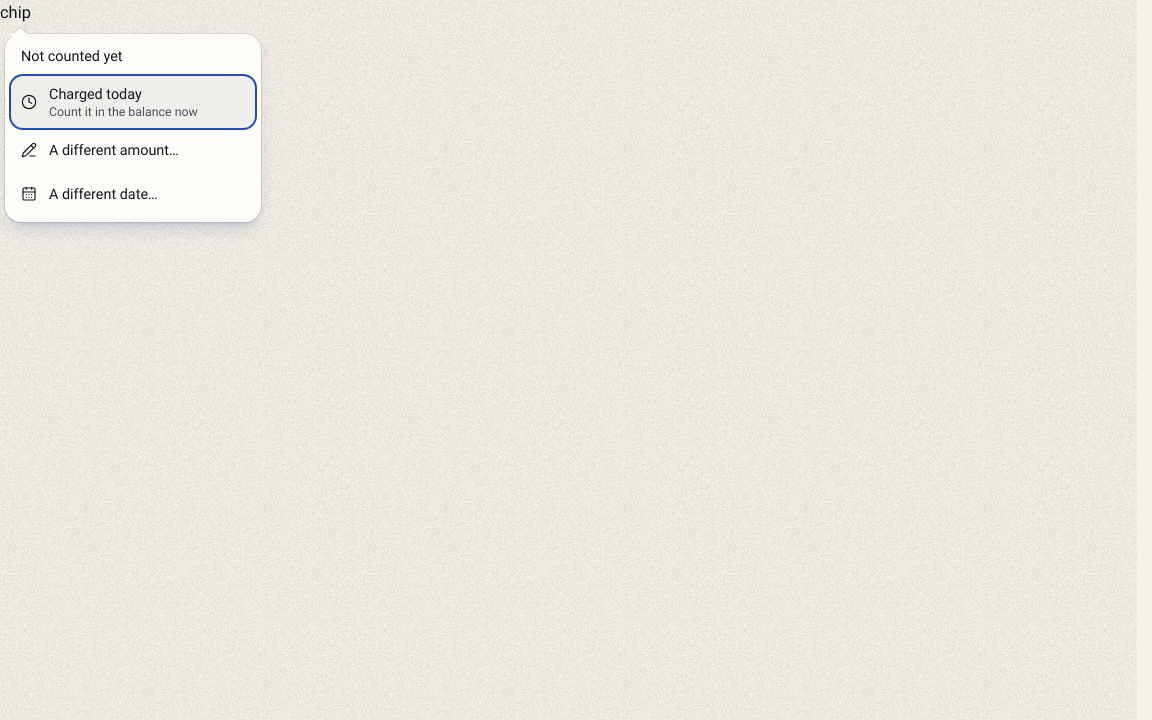
Test case: ProjectedPopout › goes back from the calendar to the three choices
Click the button "A different date…". click: click(133, 194)
box: [11,172,255,216]
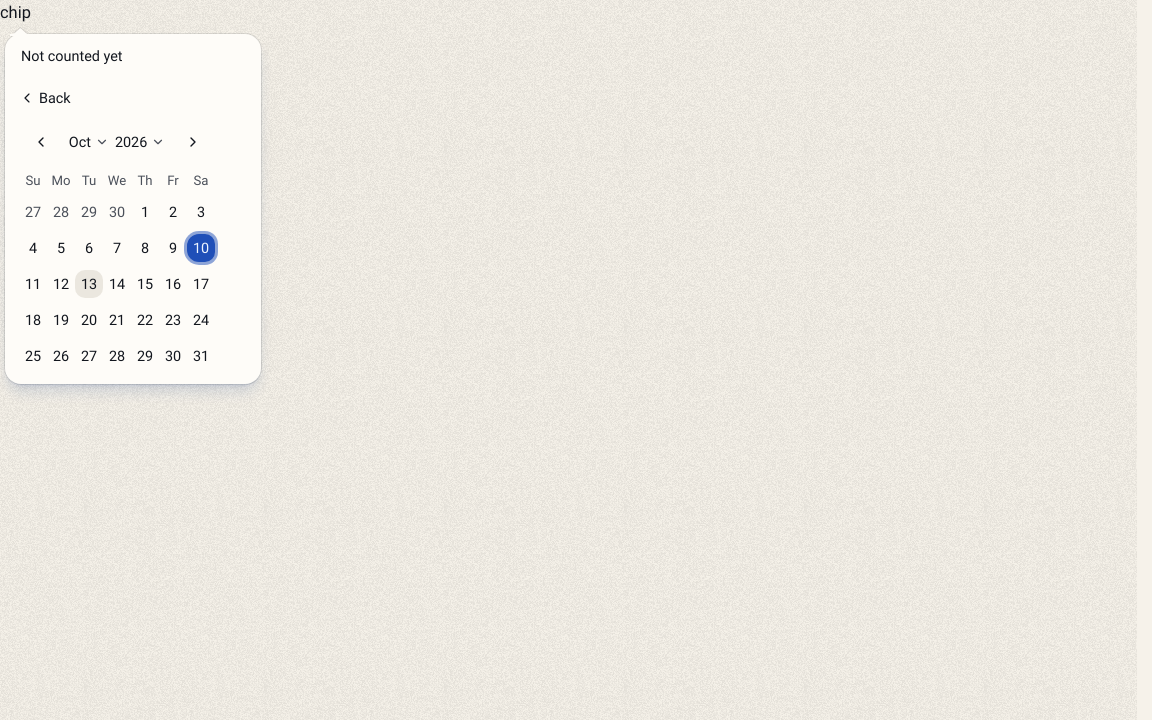
Now the 2nd icon has class "rtl:rotate-180", box [19,90,35,106]
Click the button "Back". click: click(45, 98)
box: [11,76,79,120]
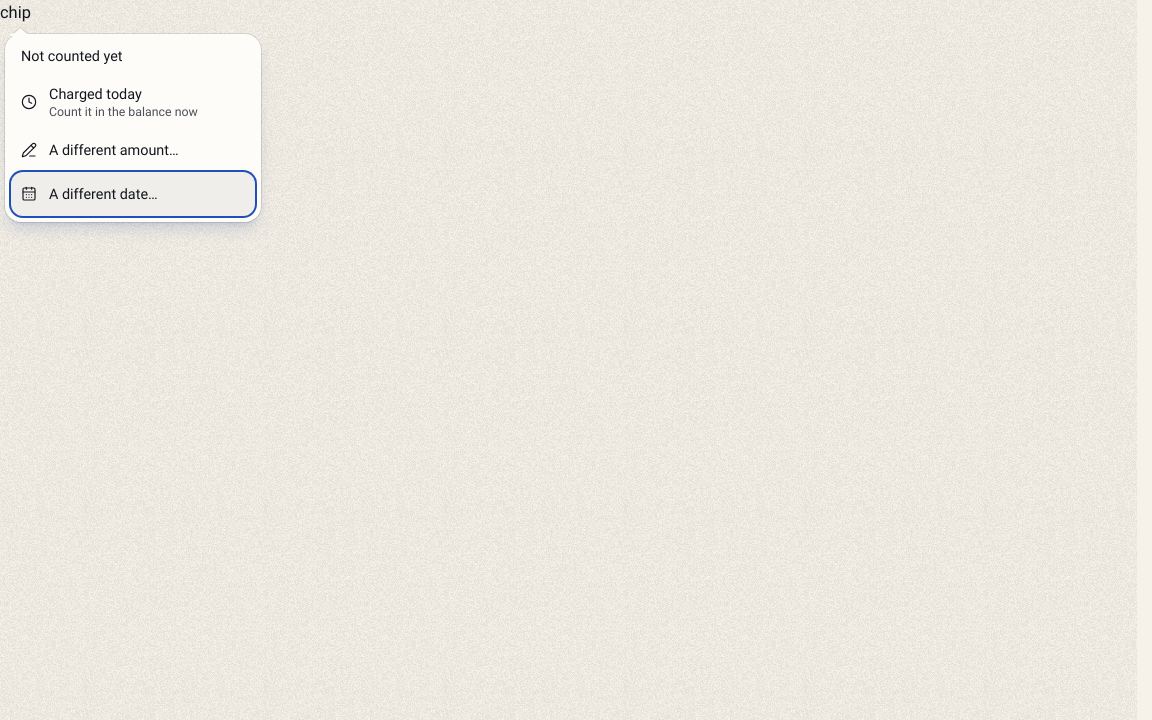
Now the button "Charged today Count it in the balance now" is shown, box [11,76,255,128]
